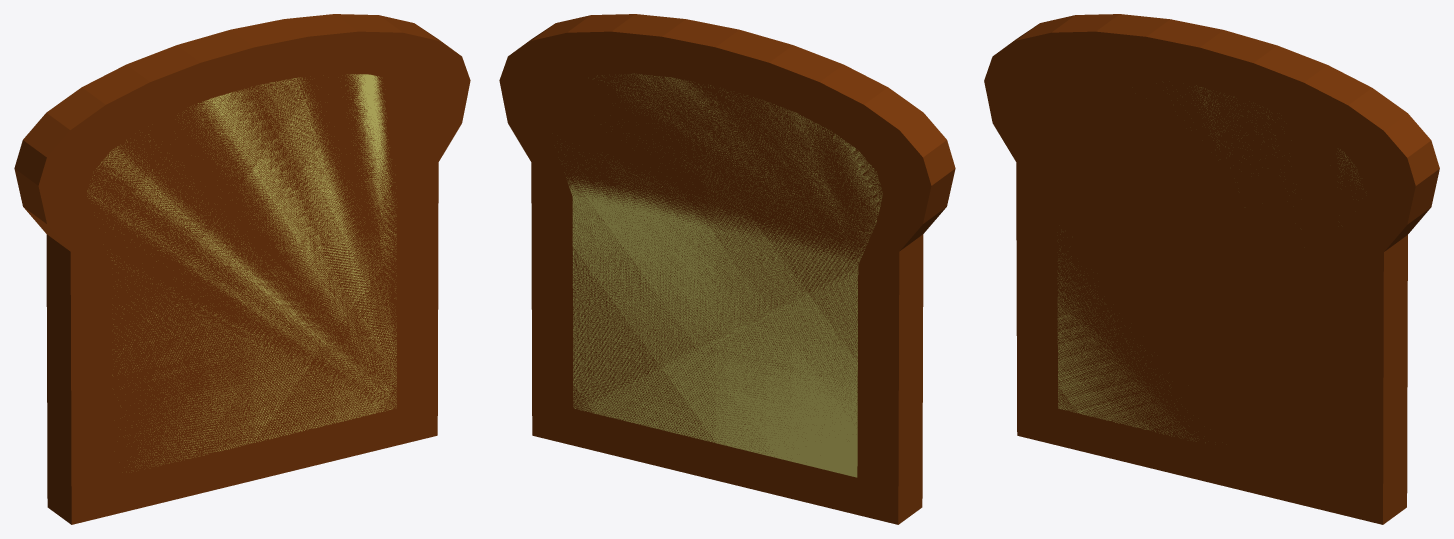
File: bread.fbx
3 renders of one model, left to right at view 1: azimuth 30°, elevation 25°; view 2: azimuth 150°, elevation 25°; view 3: azimuth 330°, elevation 25°, orthographic.
Visible parts, largest first — view 1: BezierCircle; view 2: BezierCircle; view 3: BezierCircle.
Boxes of the visible parts, <box> form: BezierCircle: <box>14,14,470,524</box>; BezierCircle: <box>499,14,955,524</box>; BezierCircle: <box>984,14,1439,524</box>.
Bounding box in the file's own units: 200 × 192 × 19.34.
